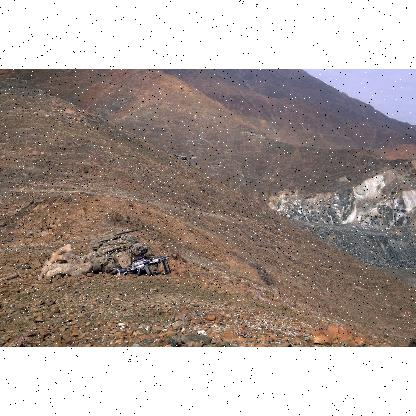gun: (112, 252, 172, 274)
